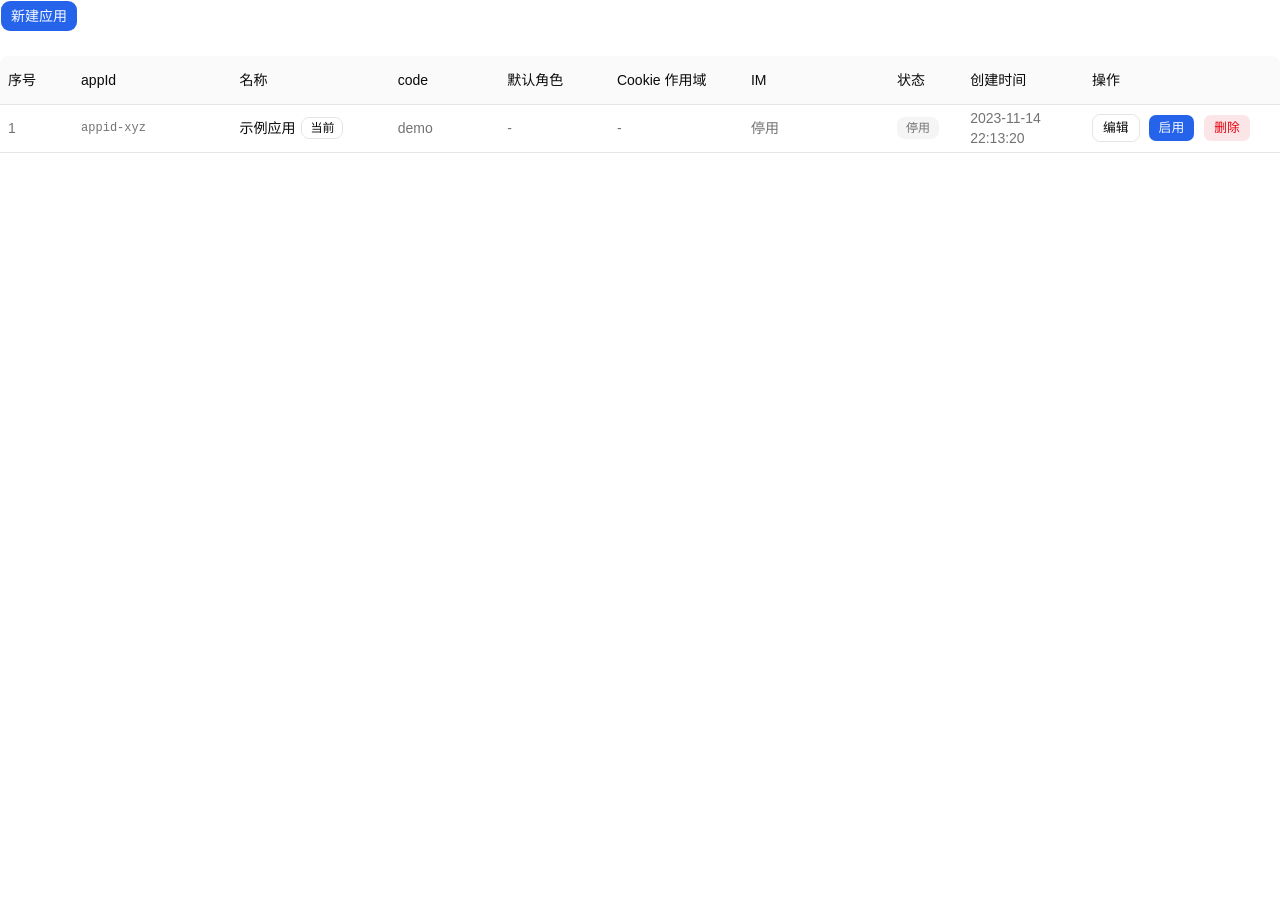
点"删除"需要二次确认，确认后发 DELETE 请求并刷新列表
Click the button "删除". click: [1227, 128]
box: [1203, 114, 1251, 142]
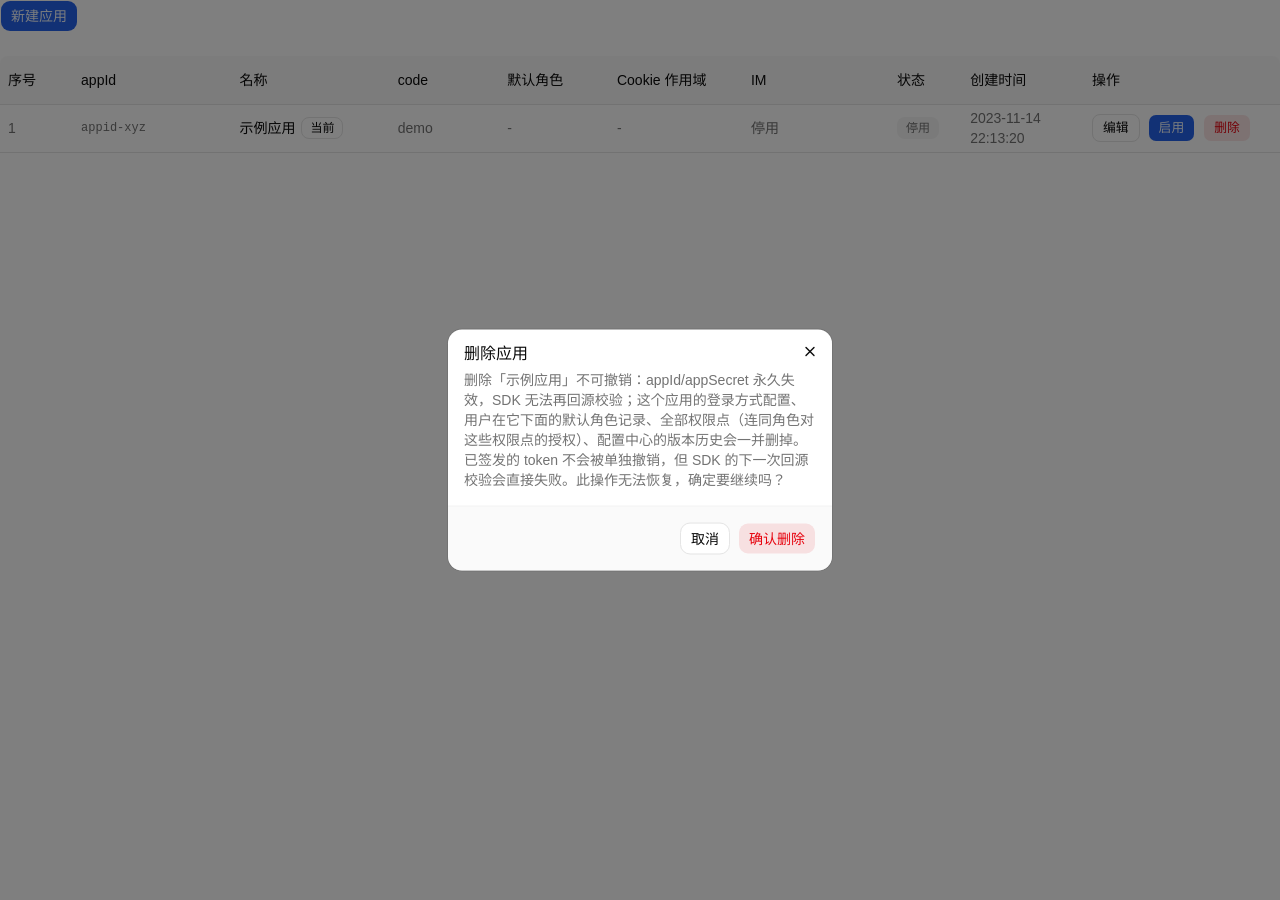
Click the button "确认删除". click: [777, 538]
box: [738, 522, 816, 554]
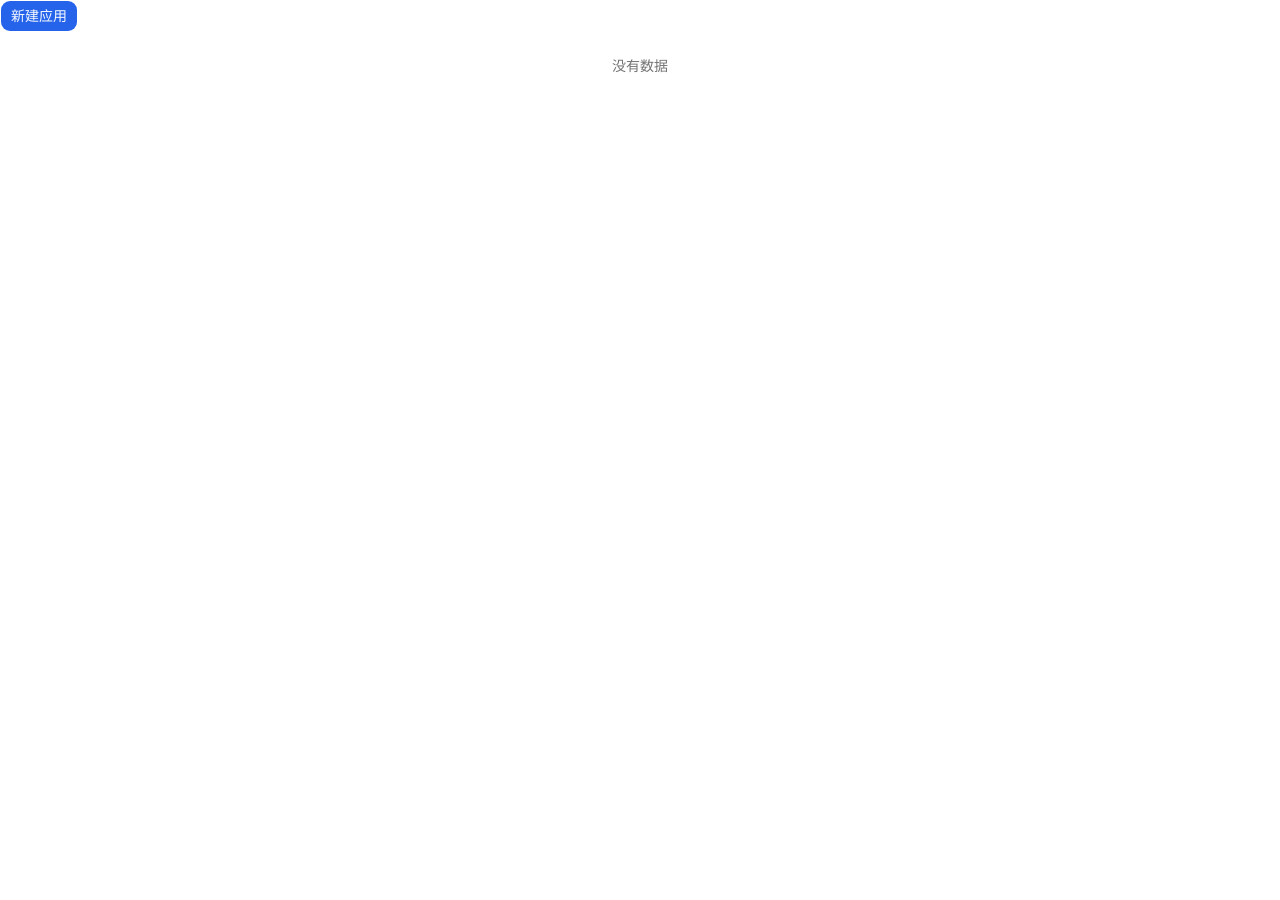
Expected: the text "没有数据" is shown, [612, 58, 668, 74]
